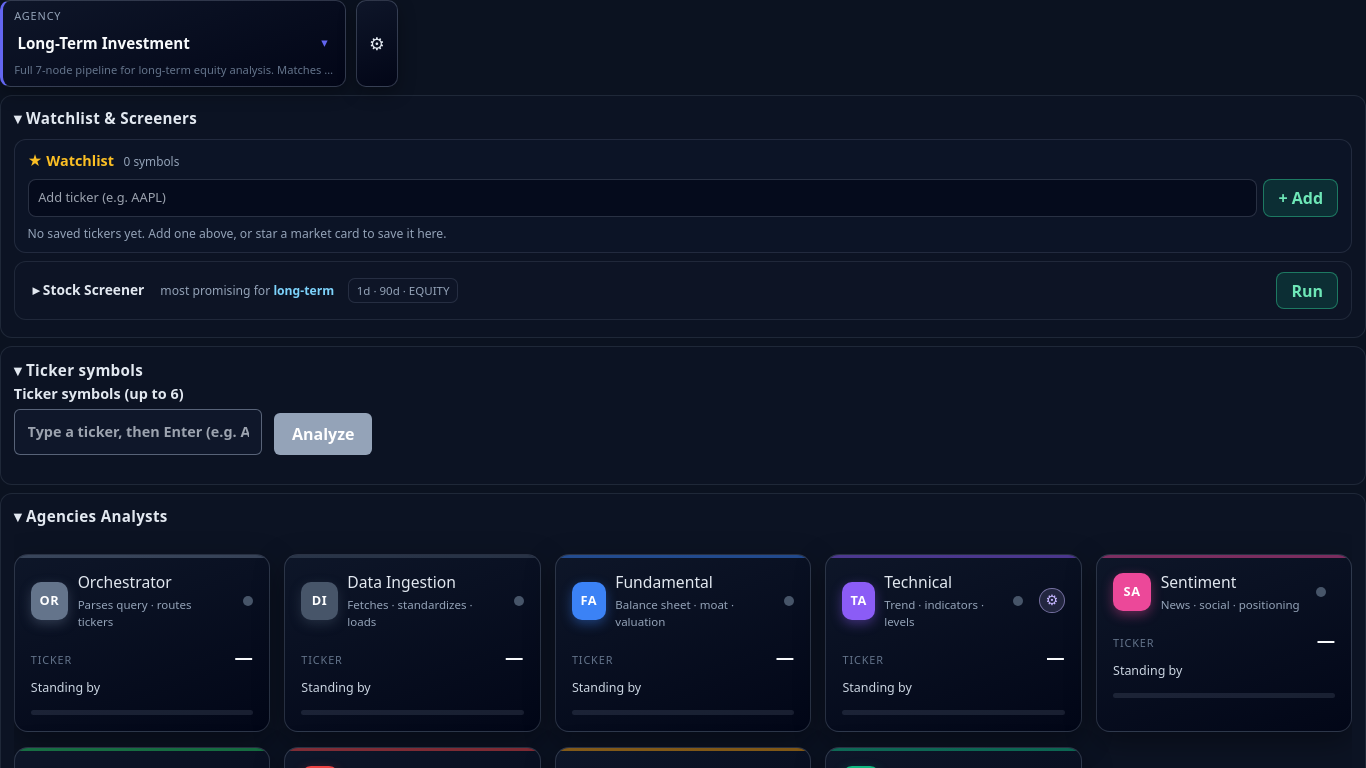
Test case: AnalysisView — agency-switch unsaved-results guard › prompts when switching away from an unsaved completed run
This screenshot has width=1366, height=768.
Note: Simulate a completed analysis.
Select "Crypto Screener" in the dropdown named "Select analysis agency": (158, 43) [14,28,301,58]
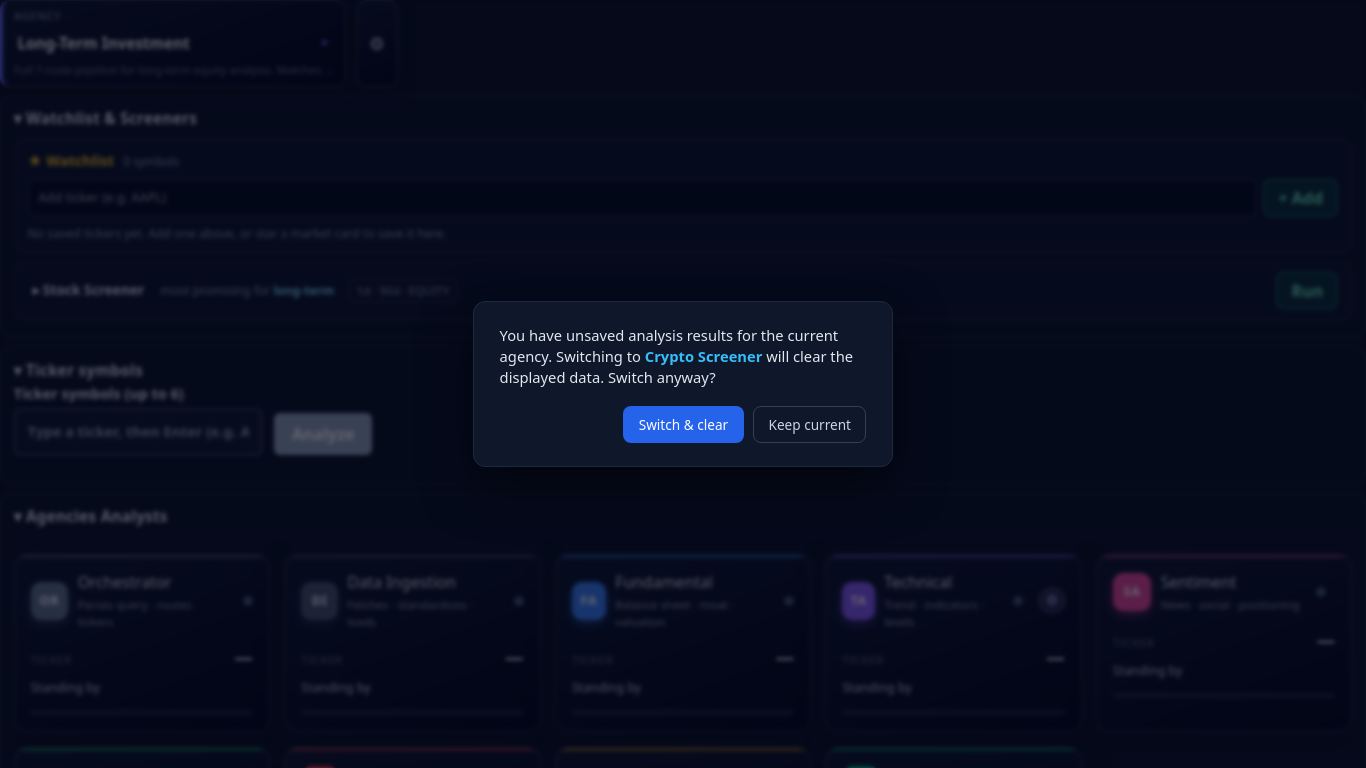
Check: the dialog with test id "agency-switch-confirm" is shown
